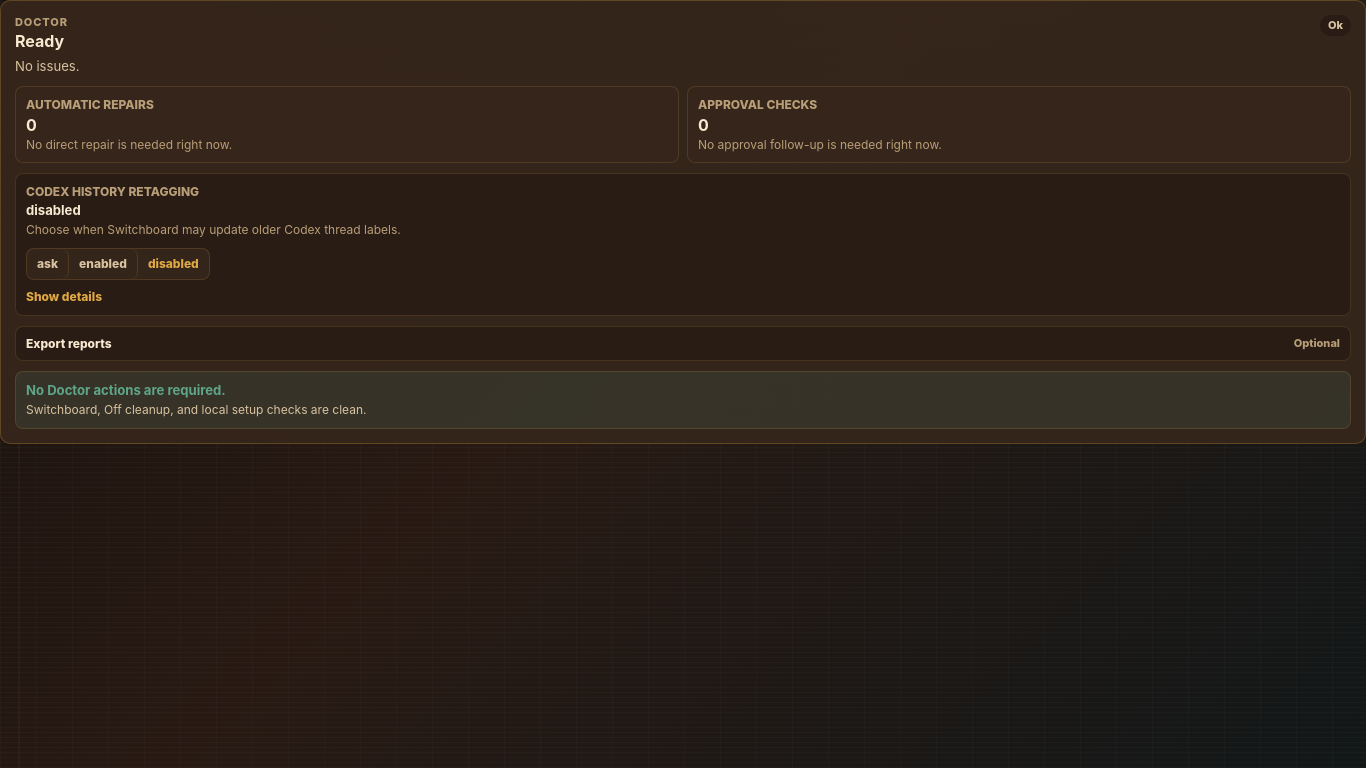
Test: SwitchboardDoctorPanel › loads and updates Codex retagging consent
This screenshot has width=1366, height=768.
Expected: the button "disabled" is shown, [138,249,209,279]
Expected: the text "Choose when Switchboard may update older Codex thread labels." is shown, [26,222,401,238]
Click the button "Show details" at (64, 298), box [26,290,102,305]
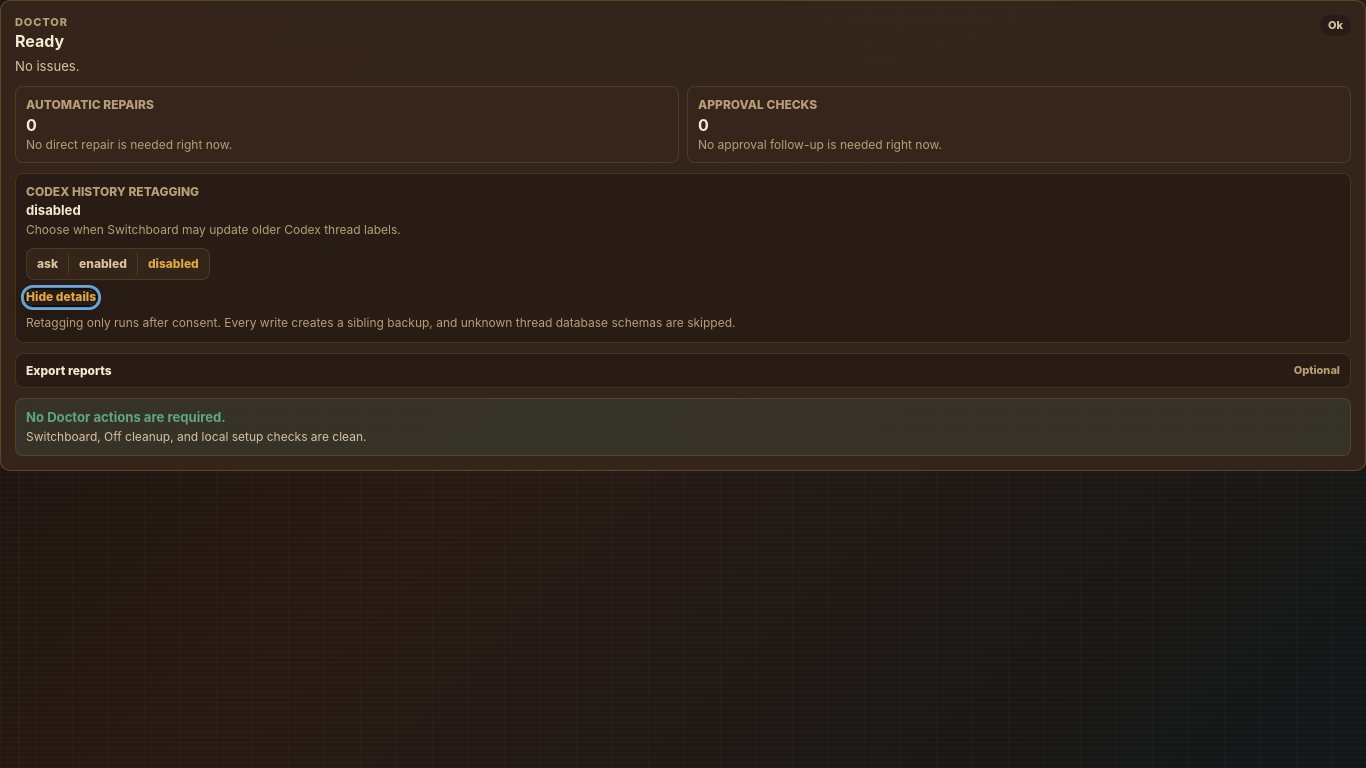
Result: the text "Every write creates a sibling backup" is shown at [26,315,736,330]
Click the button "enabled" at (104, 264), box [69,249,138,279]
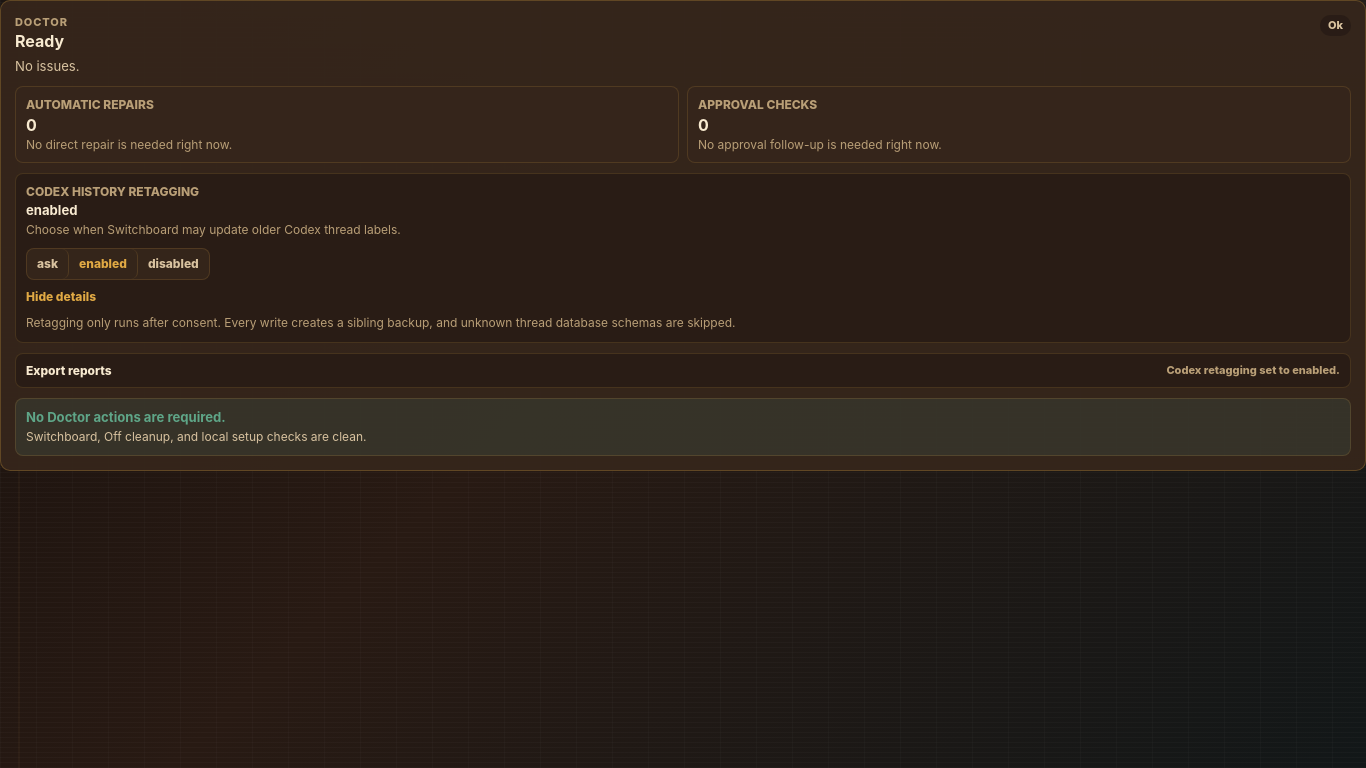
Result: the text "Codex retagging set to enabled." is shown at [1166,363,1340,377]
